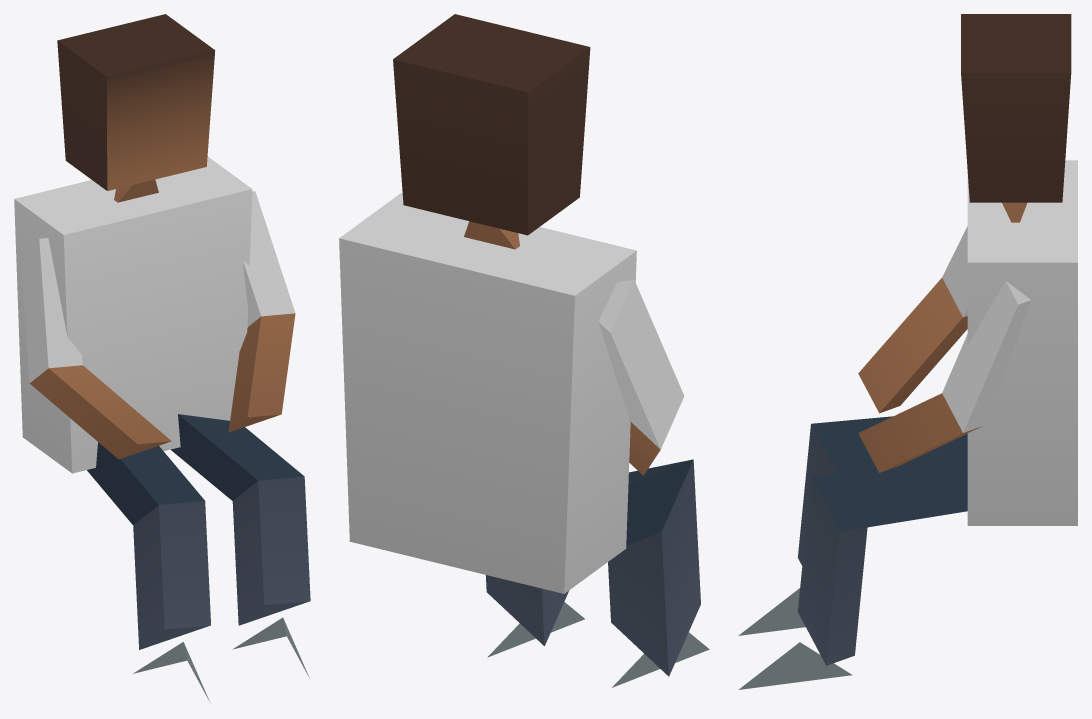
Rendered from fan-06.glb.
The picture shows the model from 3 angles, left to right: view 1: azimuth 30°, elevation 25°; view 2: azimuth 150°, elevation 25°; view 3: azimuth 270°, elevation 25°; orthographic projection. The views are drawn at different scales.
Parts seen in each view (by area): view 1: fan-06; view 2: fan-06; view 3: fan-06.
Part boxes in pixels (x1,y1,x2,y2): fan-06: (14,14,310,702); fan-06: (339,14,709,687); fan-06: (738,14,1077,689).
Size of the model in its own units: 0.7475 by 1.55 by 0.77.
